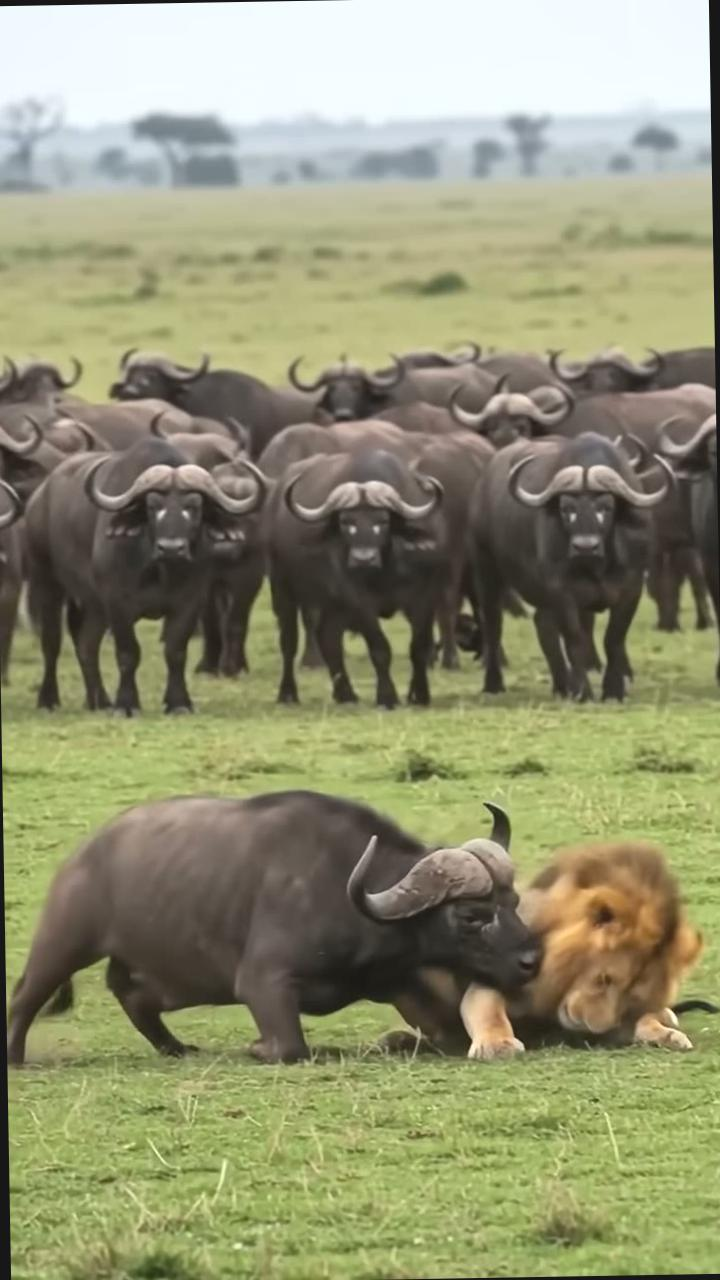Buffalo: (0, 272, 720, 768), (9, 785, 540, 1019)
lions: (536, 808, 720, 1103)
